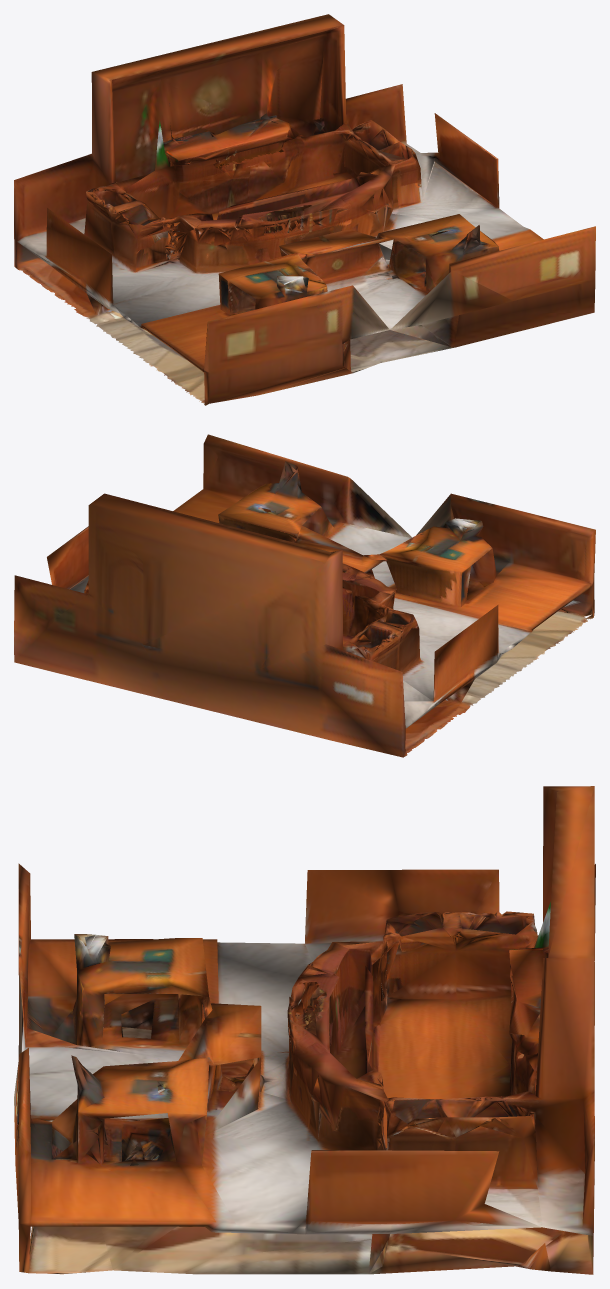
File: court.glb
3 renders of one model, top to bottom at view 1: azimuth 30°, elevation 25°; view 2: azimuth 150°, elevation 25°; view 3: azimuth 270°, elevation 25°, orthographic. The views are drawn at different scales.
Bounding box in the file's own units: 2.01 × 0.8675 × 1.74.
1 material, 1 textured.
